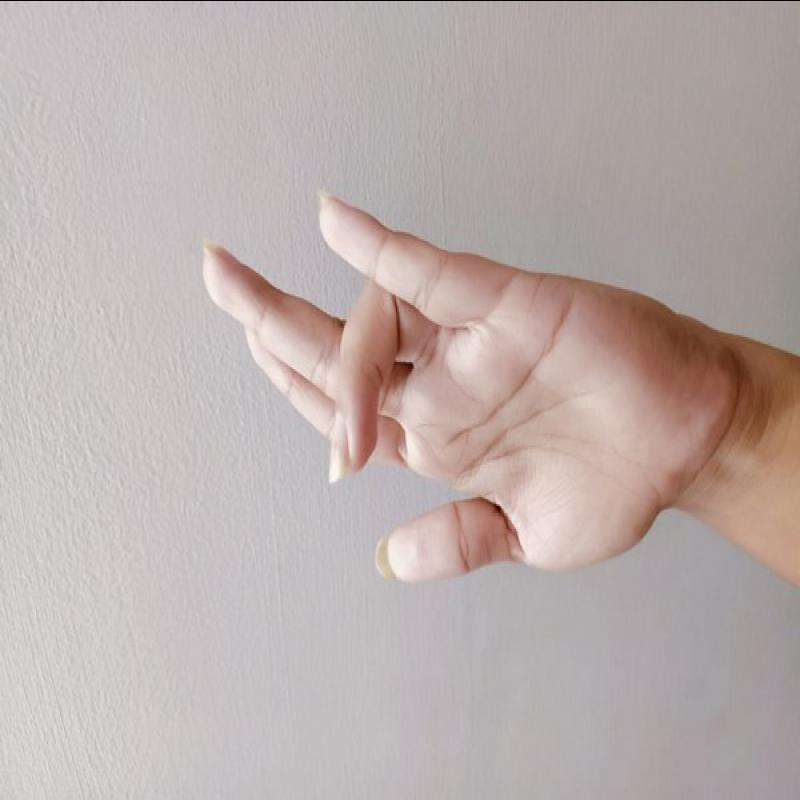Pathaaka: (179, 181, 735, 595)
